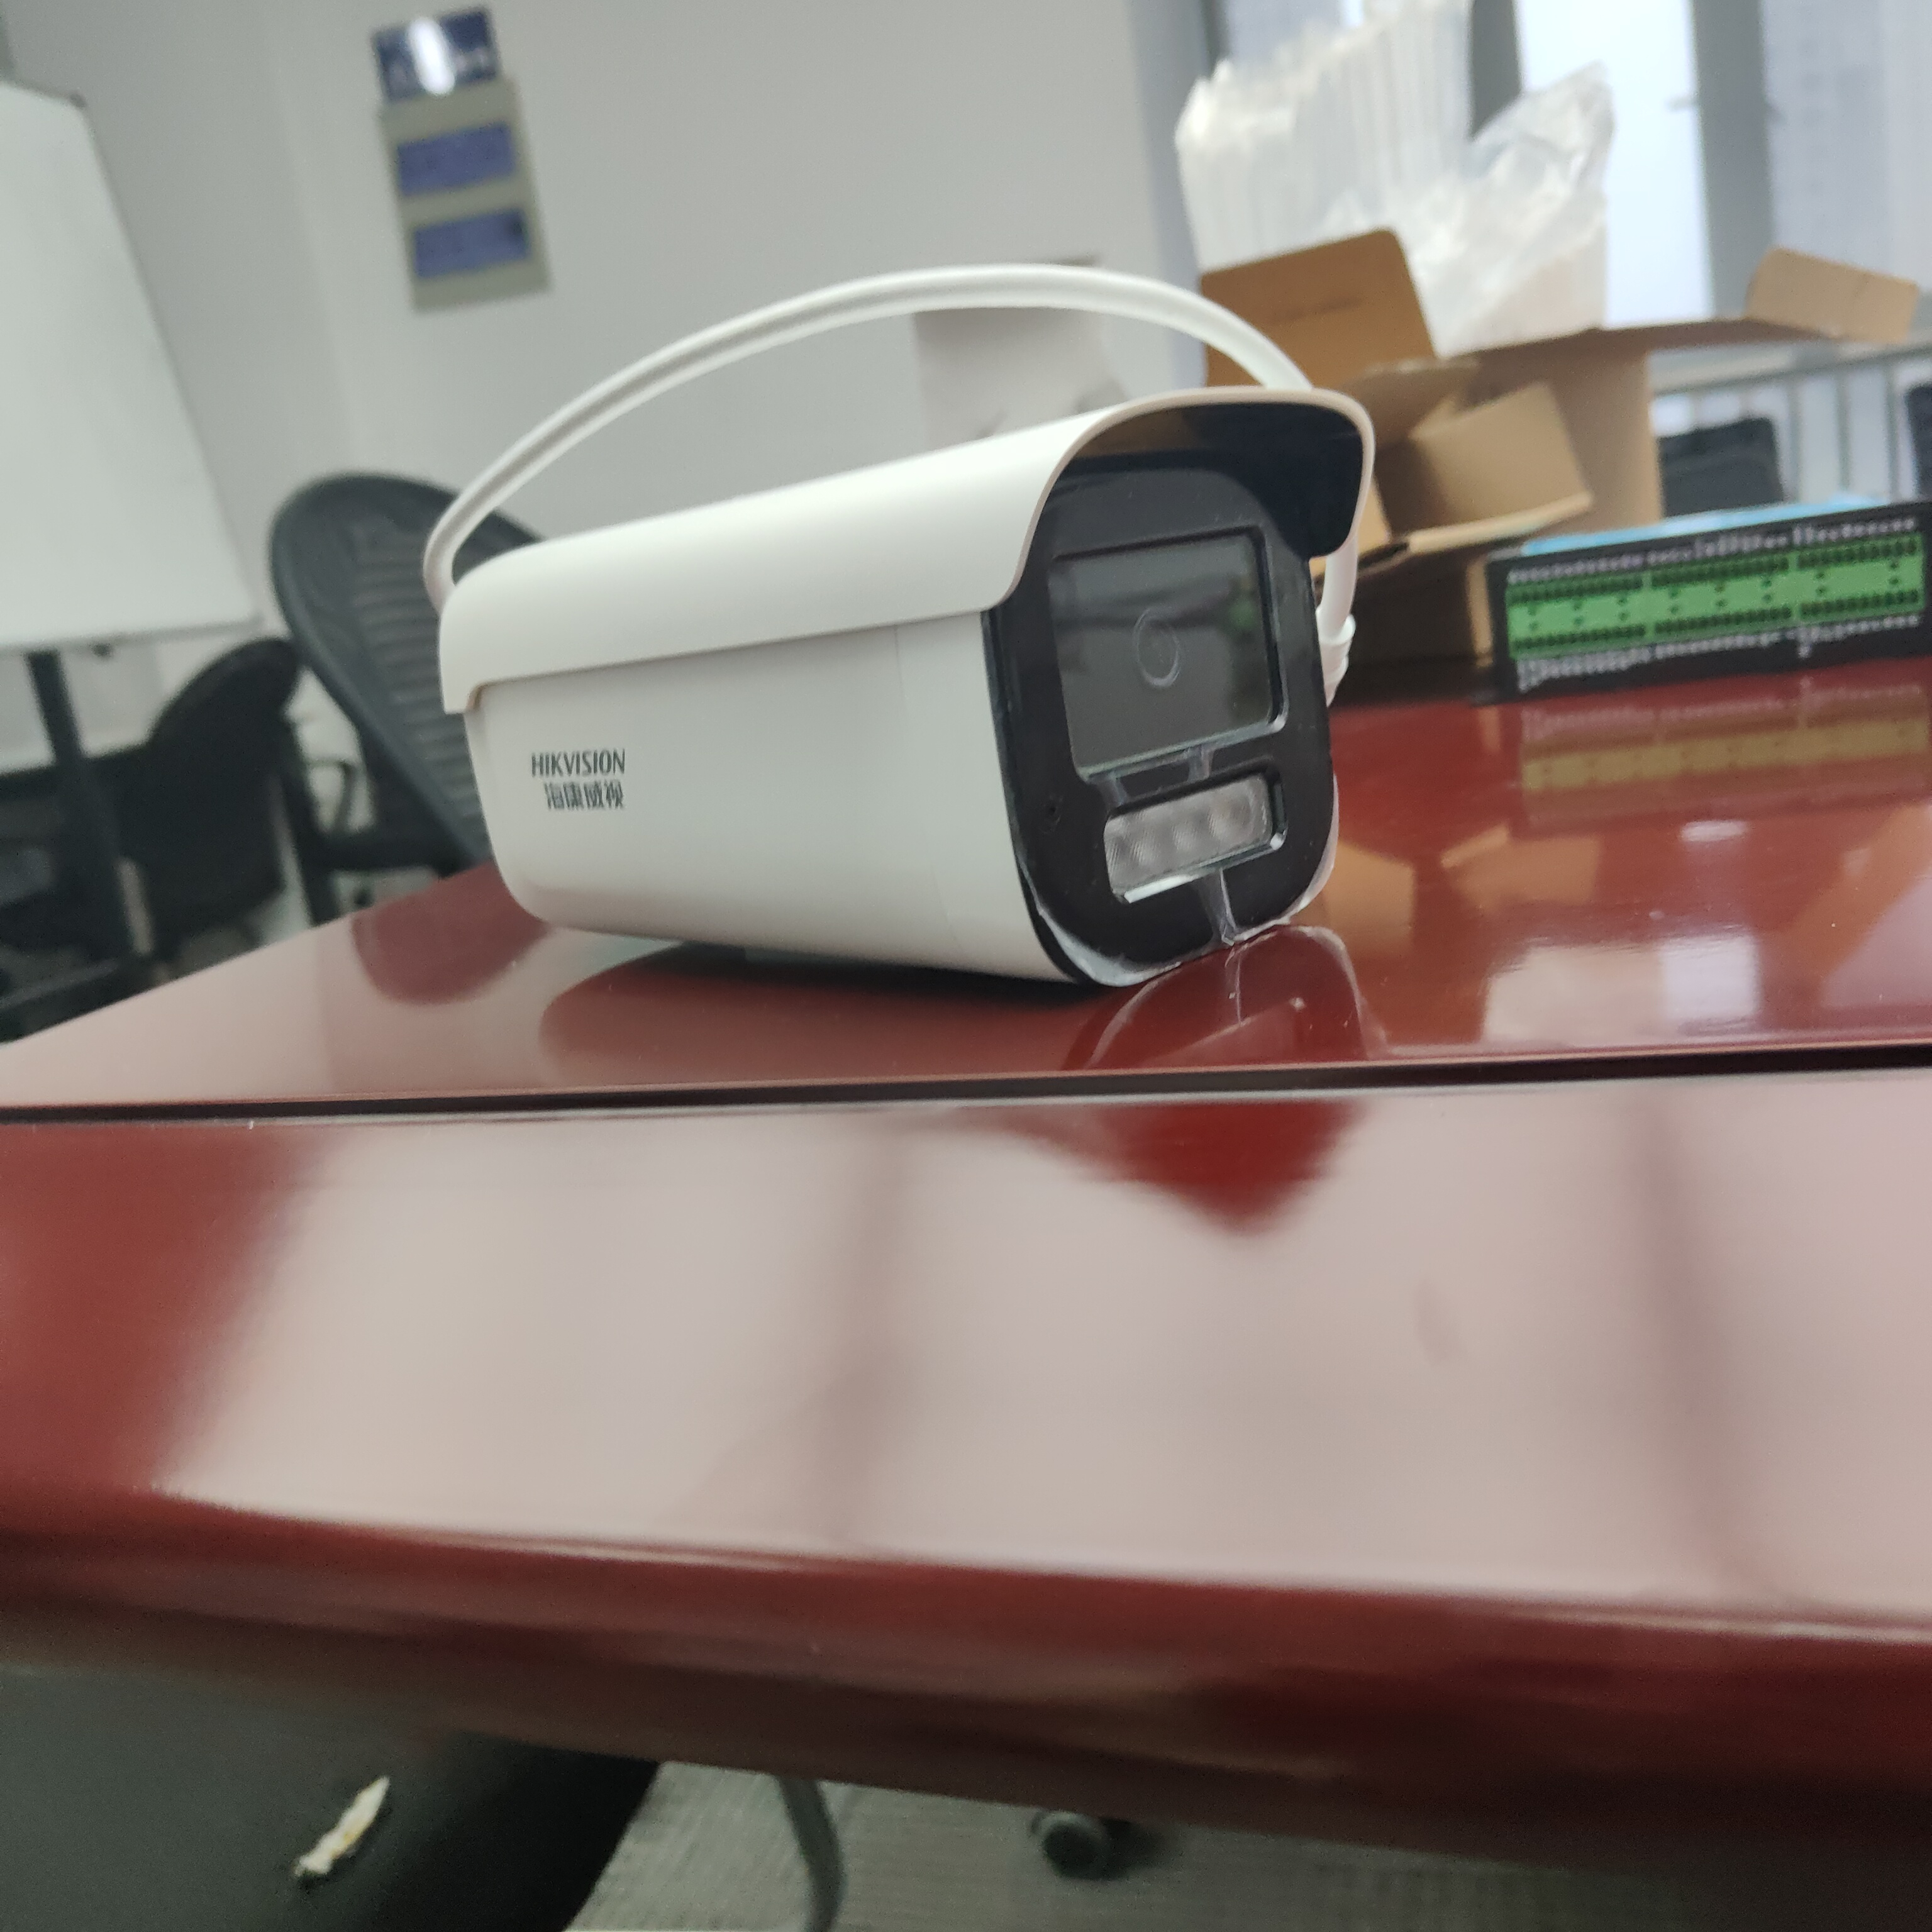hkws: (403, 391, 1405, 1040)
slyczd: (1461, 464, 1925, 701)
